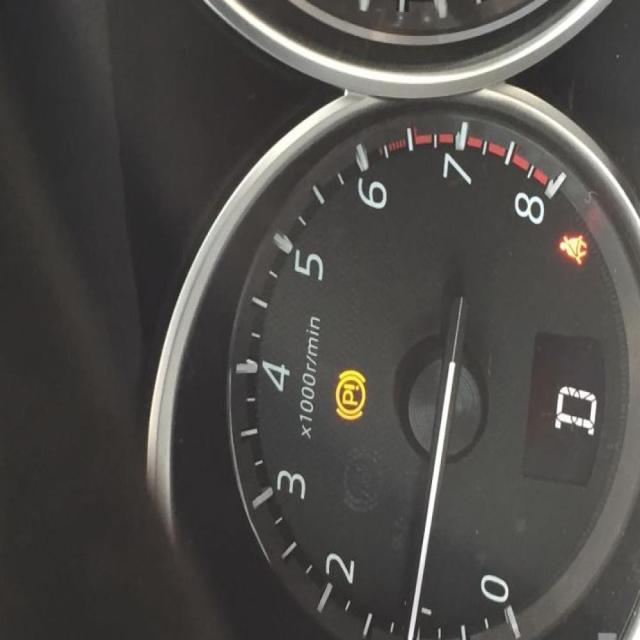Seat Belt: (556, 230, 590, 264)
